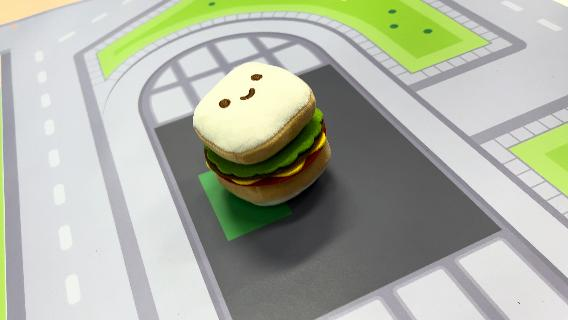sandwich: (191, 59, 333, 207)
